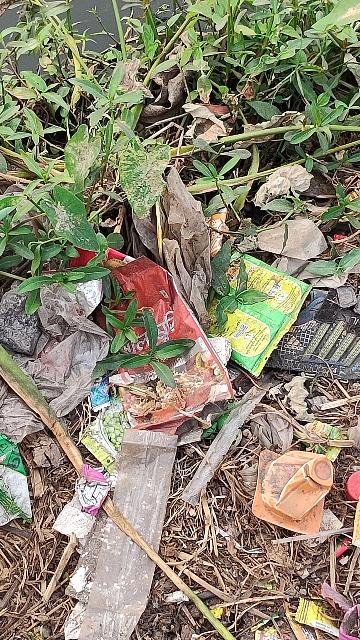packet: (50, 234, 239, 451), (149, 191, 330, 371)
